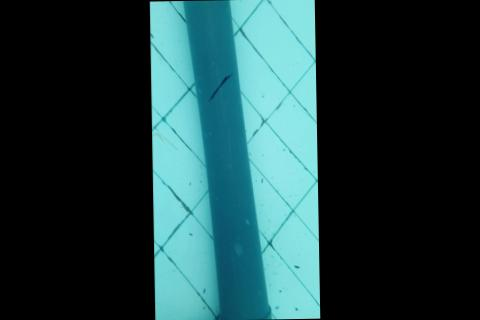keretakan: (206, 72, 234, 104)
